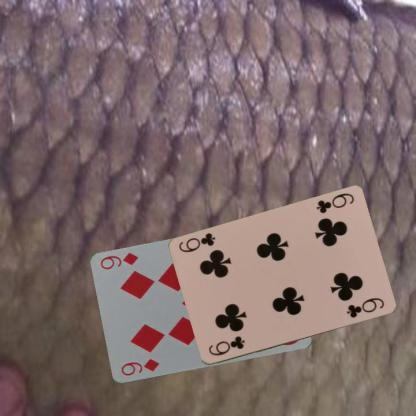6c: (313, 191, 355, 215), (206, 333, 246, 358)
9d: (118, 356, 160, 378)
